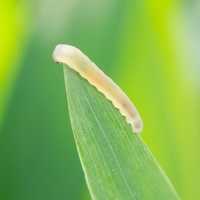insect: (52, 44, 142, 132)
